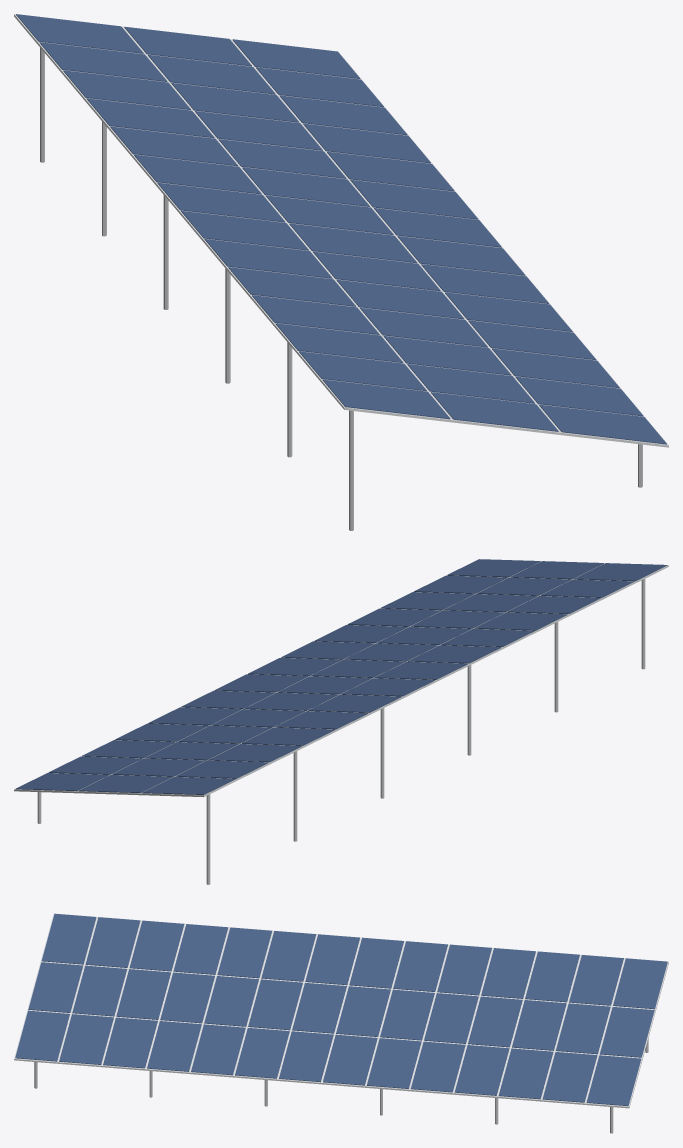
Rendered from rares_spis_array_mid.glb.
The picture shows the model from 3 angles, top to bottom: view 1: azimuth 30°, elevation 25°; view 2: azimuth 150°, elevation 25°; view 3: azimuth 270°, elevation 25°; orthographic projection. The views are drawn at different scales.
Parts seen in each view (by area): view 1: Solar_PV_Modules, Solar_Array_Frame, Array_Support_Frame; view 2: Solar_PV_Modules, Solar_Array_Frame, Array_Support_Frame; view 3: Solar_PV_Modules, Solar_Array_Frame, Array_Support_Frame.
Boxes of the visible parts, x1,y1,x2,y2 form: Solar_PV_Modules: [16, 14, 666, 444]; Solar_Array_Frame: [14, 14, 668, 447]; Array_Support_Frame: [40, 48, 642, 530]; Solar_PV_Modules: [16, 559, 667, 794]; Solar_Array_Frame: [14, 561, 668, 797]; Array_Support_Frame: [37, 579, 645, 884]; Solar_PV_Modules: [15, 913, 667, 1106]; Solar_Array_Frame: [14, 913, 668, 1108]; Array_Support_Frame: [34, 1038, 648, 1133].
Size of the model in its own units: 8.15 by 2.4 by 16.26.
